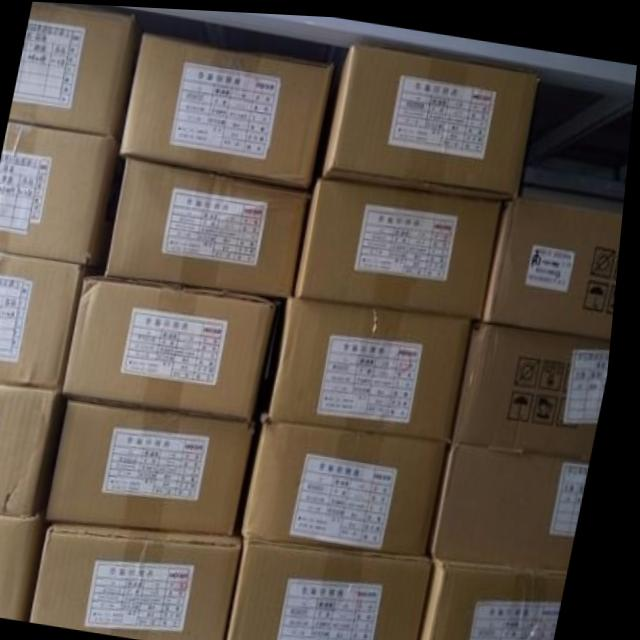box: (325, 43, 539, 197), (121, 36, 338, 186), (249, 402, 456, 550), (70, 277, 281, 421), (272, 294, 476, 439), (301, 173, 506, 314), (112, 152, 311, 294), (55, 399, 260, 532), (41, 521, 253, 640), (237, 533, 441, 640), (457, 315, 617, 450), (488, 192, 626, 338), (439, 440, 598, 564), (12, 1, 145, 137), (0, 120, 126, 262), (0, 251, 107, 390), (432, 554, 577, 640), (0, 381, 72, 515), (0, 507, 51, 618)
